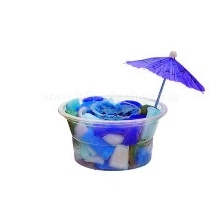glass: (52, 90, 175, 176)
